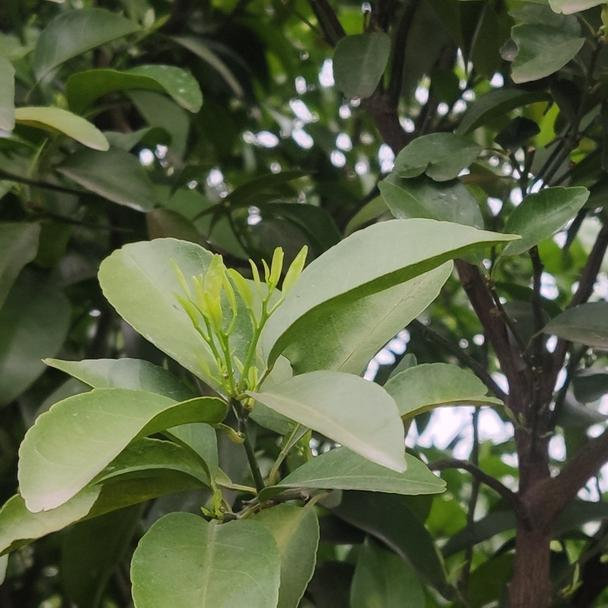shoot: (178, 257, 242, 368), (237, 240, 308, 323)
